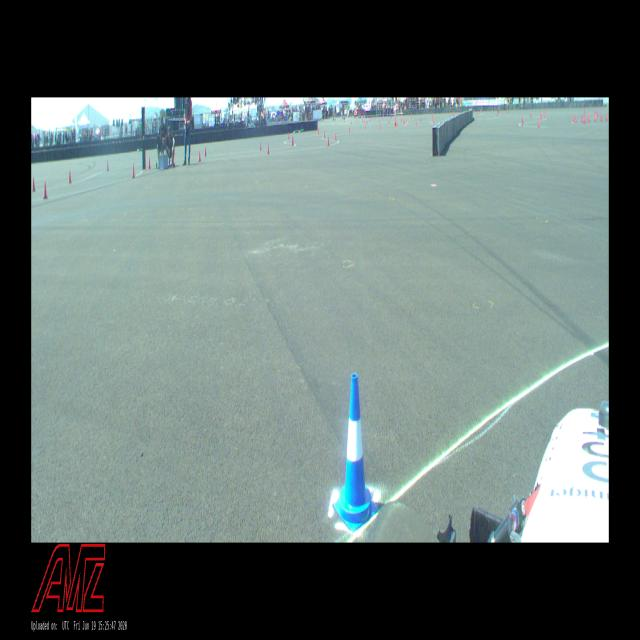blue_cone: (333, 373, 378, 531)
unknown_cone: (43, 182, 48, 199), (132, 163, 136, 179), (32, 176, 36, 191), (68, 170, 72, 183), (266, 144, 270, 154), (148, 157, 151, 170), (198, 150, 201, 162), (259, 140, 262, 151), (326, 136, 329, 146), (204, 147, 207, 156)
